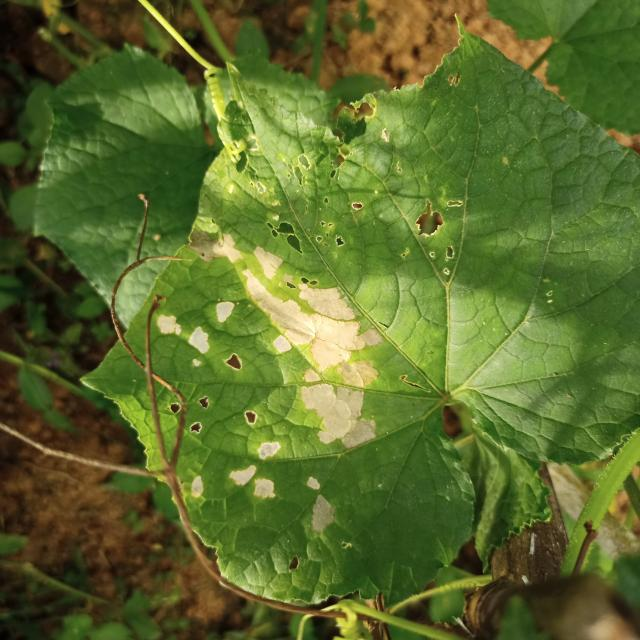disease_cucumber: (152, 227, 380, 534)
